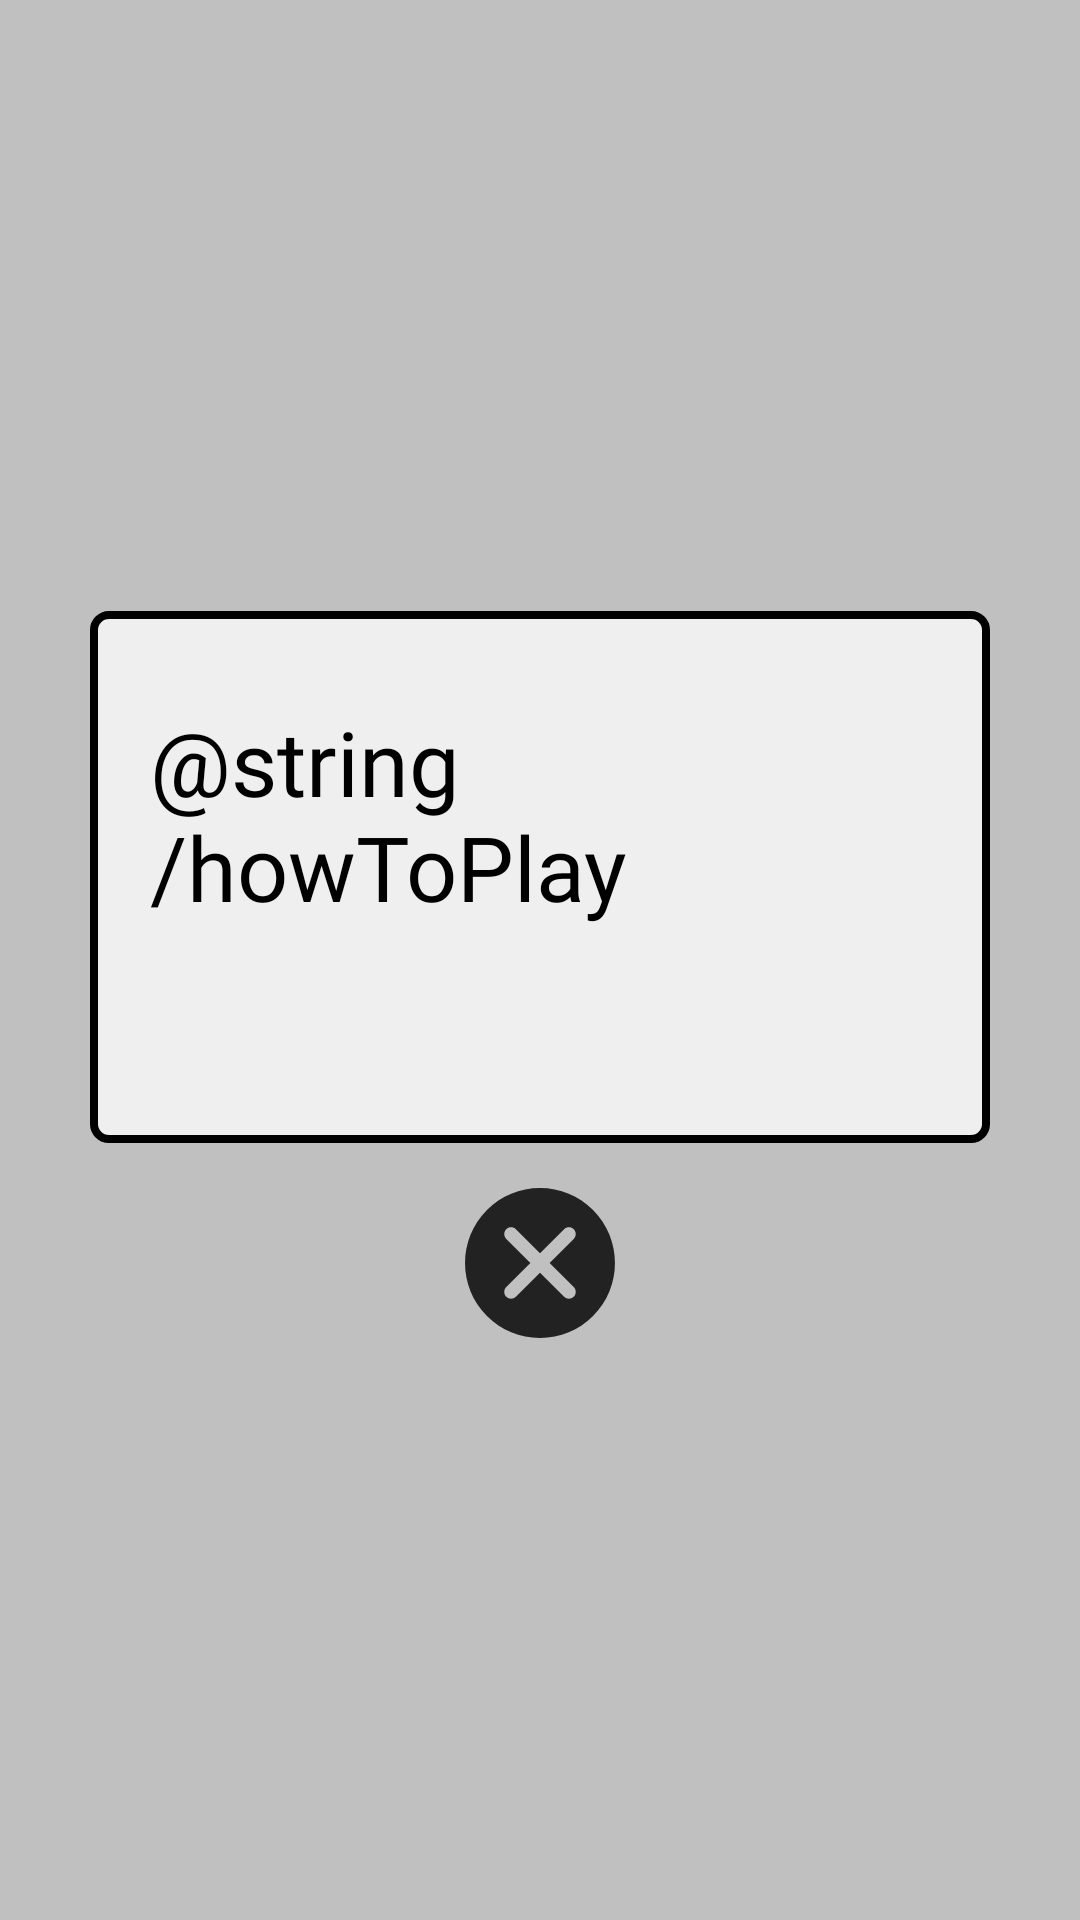

Icons on this 1080 × 1920 Android screen, each with the point to tap as (x=x, y=y):
close: (x=540, y=1263)
